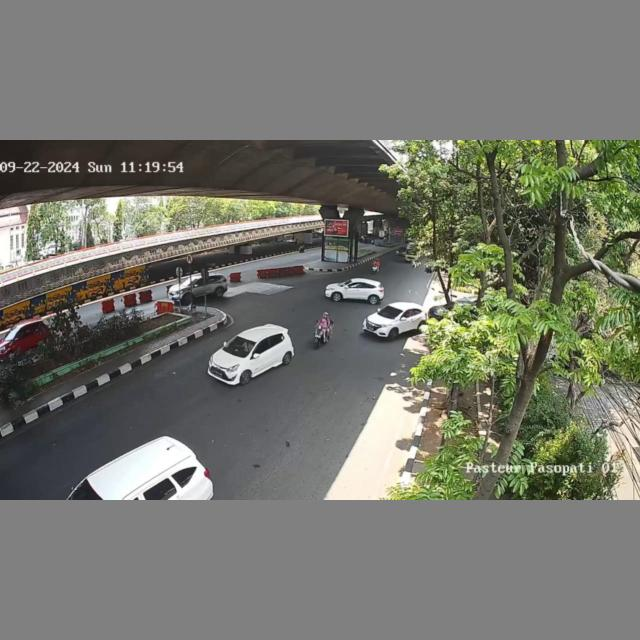windshield: (224, 336, 258, 359), (378, 305, 404, 321)
